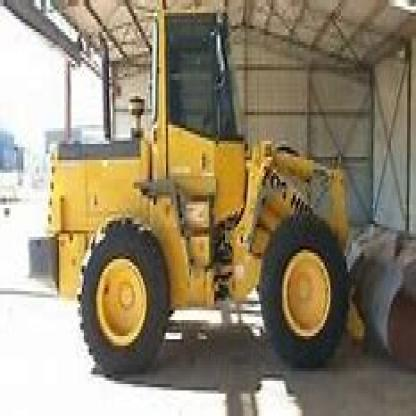bull_dozer/loader/grader: (38, 0, 414, 381)
